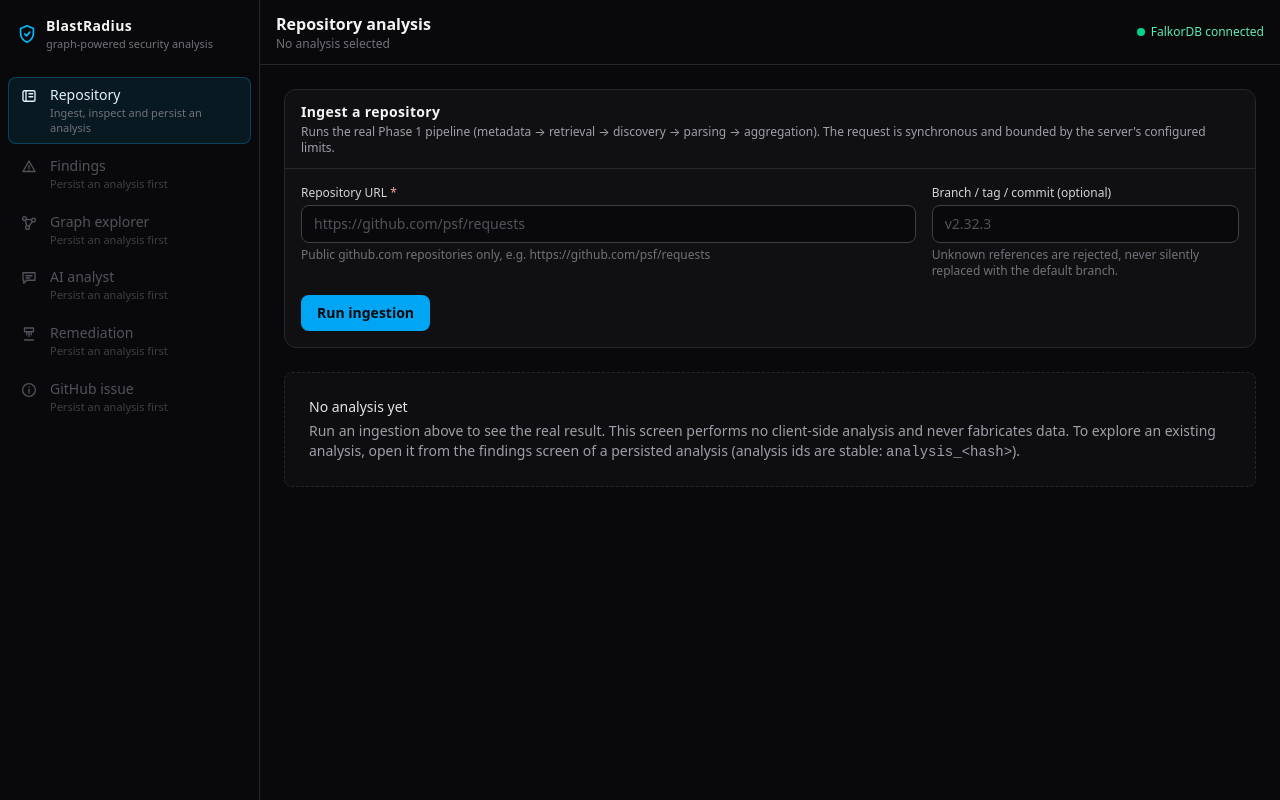
Scenario: Screen A — repository analysis › surfaces the structured error envelope when ingestion fails
Type "https://github.com/example/demo" into the field labelled "Repository URL *".
click(608, 224); type("https://github.com/example/demo")  # box top-left (301, 205), bottom-right (916, 243)
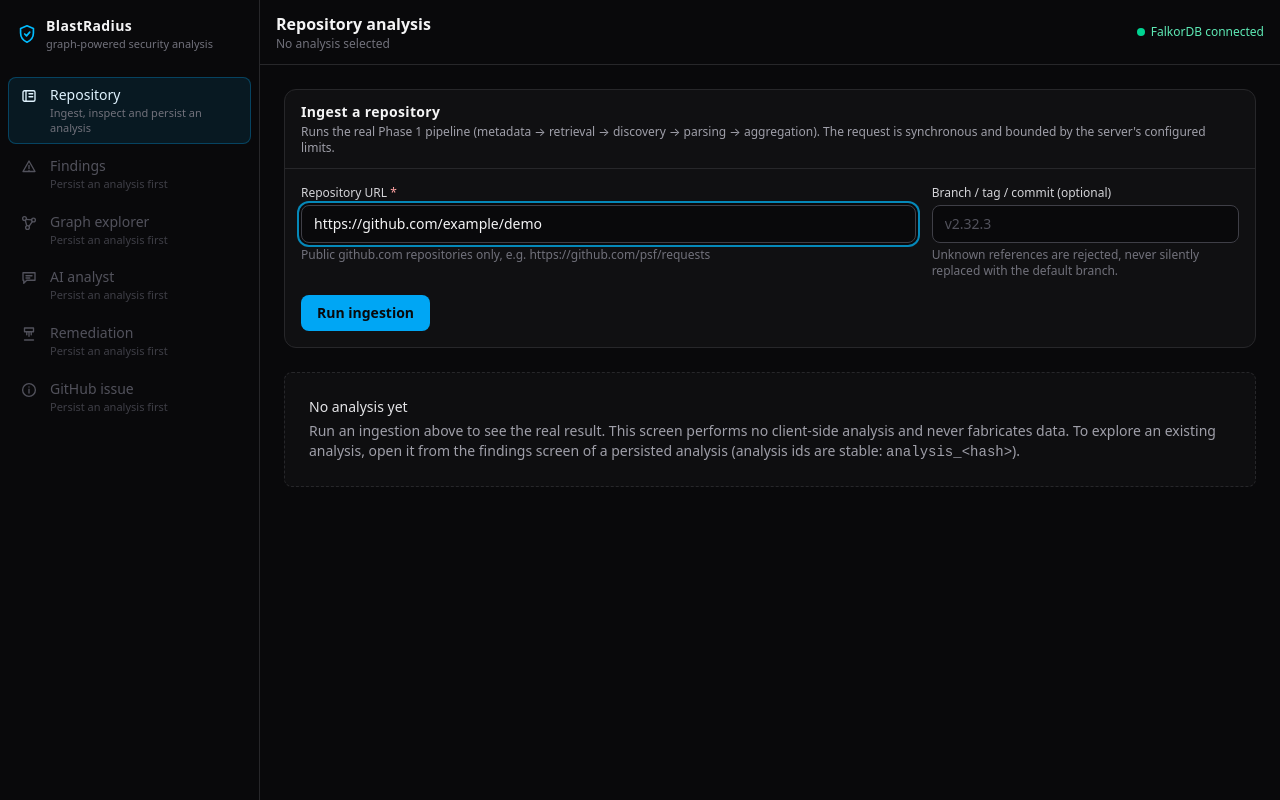
Click the button "Run ingestion".
click(366, 313)  # box top-left (301, 295), bottom-right (430, 331)
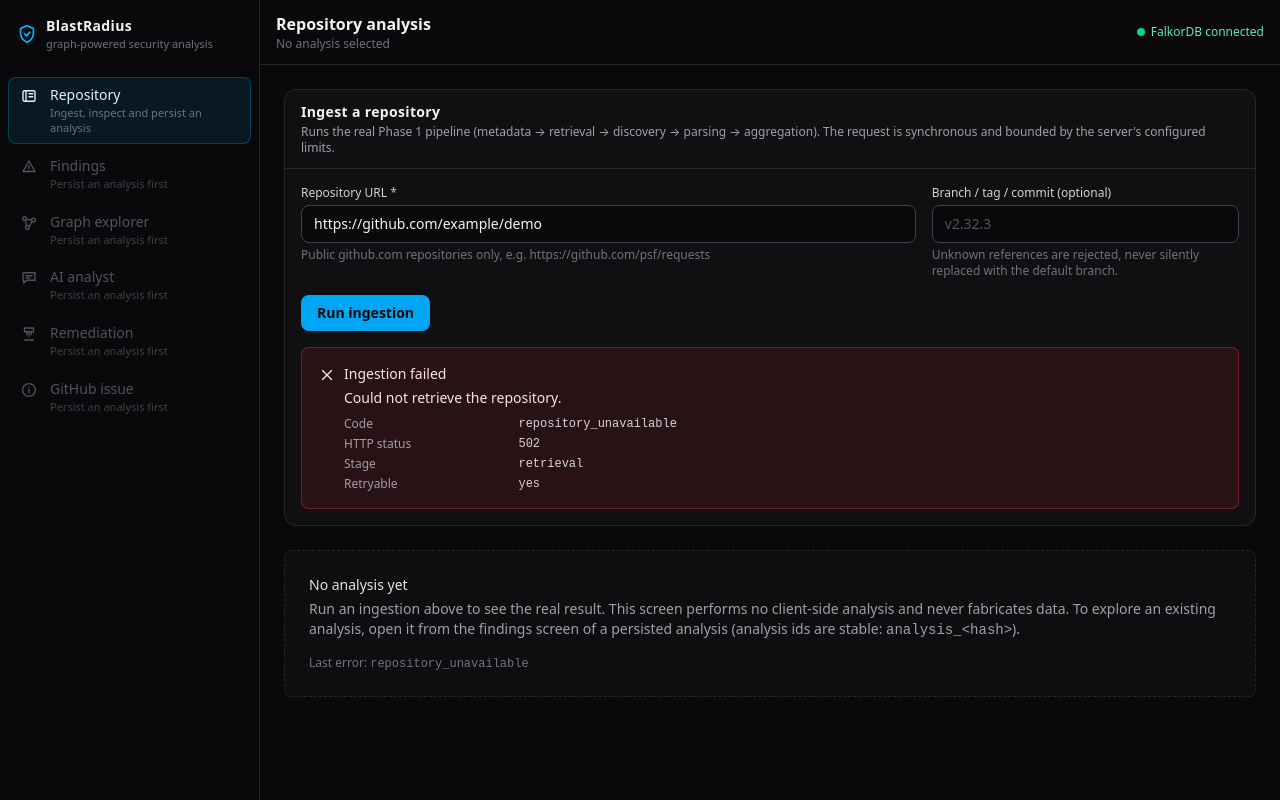
expect the text "Ingestion failed" is shown: met, box top-left (344, 364), bottom-right (446, 383)
expect the text "Could not retrieve the repository." is shown: met, box top-left (344, 388), bottom-right (561, 407)
expect the message shows "repository_unavailable": met, box top-left (518, 417), bottom-right (677, 431)
